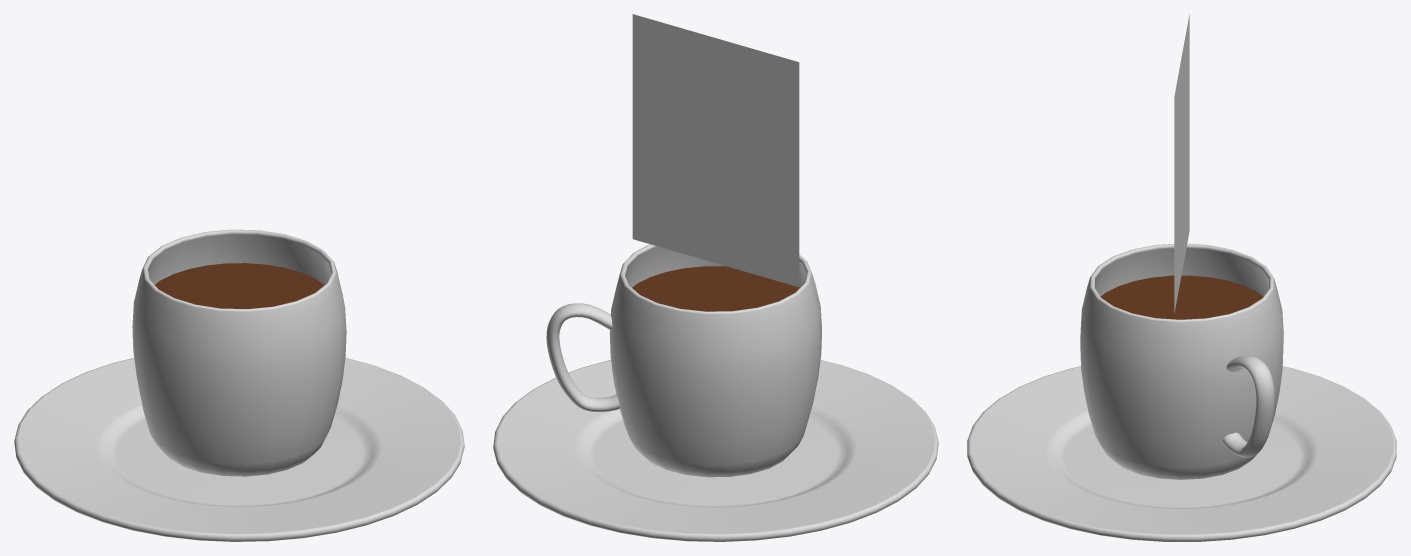
File: coffee2.glb
The picture shows the model from 3 angles, left to right: view 1: azimuth 30°, elevation 25°; view 2: azimuth 150°, elevation 25°; view 3: azimuth 270°, elevation 25°; orthographic projection. The views are drawn at different scales.
Visible parts, largest first — view 1: prato_low, caneca_low, cafe; view 2: prato_low, cha_imagem, caneca_low, cafe; view 3: prato_low, caneca_low, cafe, cha_imagem.
Part boxes in pixels (<box>): prato_low: <box>14,357,464,541</box>; caneca_low: <box>132,229,346,476</box>; cafe: <box>155,263,324,308</box>; prato_low: <box>493,360,938,541</box>; cha_imagem: <box>632,14,799,286</box>; caneca_low: <box>546,244,821,477</box>; cafe: <box>632,266,799,311</box>; prato_low: <box>967,366,1396,541</box>; caneca_low: <box>1080,243,1283,479</box>; cafe: <box>1100,275,1263,319</box>; cha_imagem: <box>1174,14,1189,313</box>.
Size of what is drawn, in the model's own units: 3.33 by 3.57 by 3.33.
